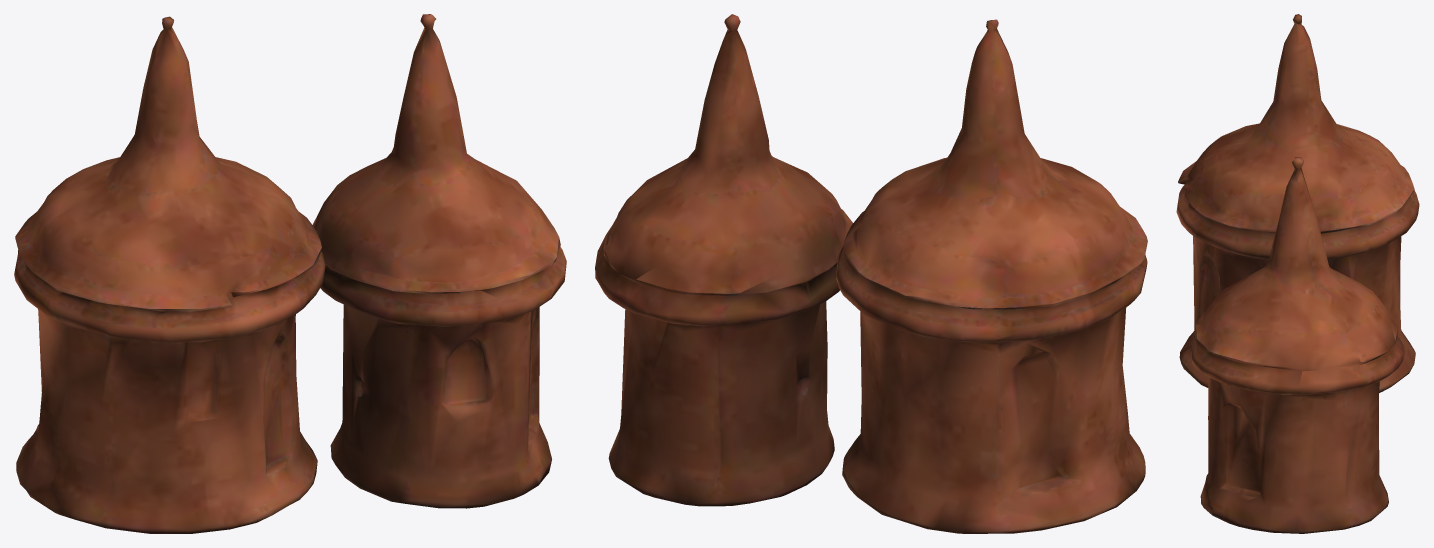
The model's file is ornate-terracotta-turret-top-v001.glb.
3 views of the same model, side by side, from view 1: azimuth 30°, elevation 25°; view 2: azimuth 150°, elevation 25°; view 3: azimuth 270°, elevation 25° (orthographic). The views are drawn at different scales.
Parts seen in each view (by area): view 1: ornate-terracotta-turret-top; view 2: ornate-terracotta-turret-top; view 3: ornate-terracotta-turret-top.
Boxes of the visible parts, x1,y1,x2,y2 form: ornate-terracotta-turret-top: [14, 14, 566, 533]; ornate-terracotta-turret-top: [595, 14, 1147, 533]; ornate-terracotta-turret-top: [1176, 14, 1419, 533].
Bounding box in the file's own units: 3.04 × 2.91 × 1.66.
1 material, 1 textured.
